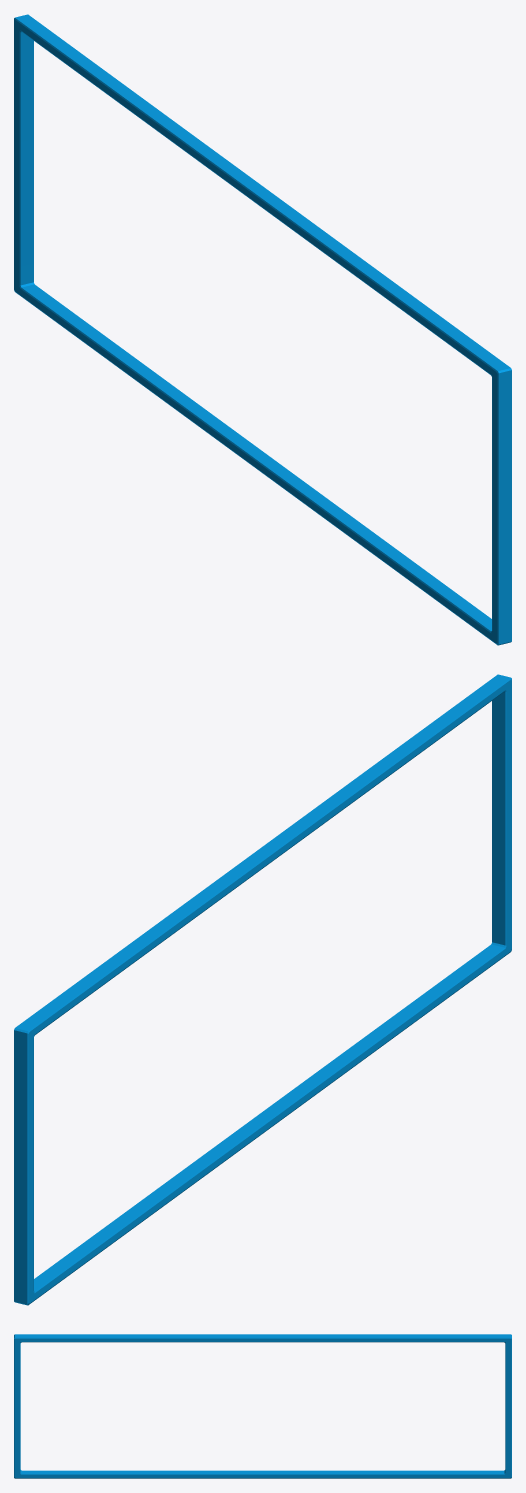
File: BackBox_Screen.fbx
The picture shows the model from 3 angles, top to bottom: view 1: azimuth 30°, elevation 25°; view 2: azimuth 150°, elevation 25°; view 3: azimuth 270°, elevation 25°; orthographic projection. The views are drawn at different scales.
Parts seen in each view (by area): view 1: BackBox_Screen; view 2: BackBox_Screen; view 3: BackBox_Screen.
Boxes of the visible parts, <box> form: BackBox_Screen: <box>14,14,511,645</box>; BackBox_Screen: <box>14,674,511,1305</box>; BackBox_Screen: <box>14,1334,511,1478</box>.
Size of the model in its own units: 0.703 by 12.81 by 41.04.
